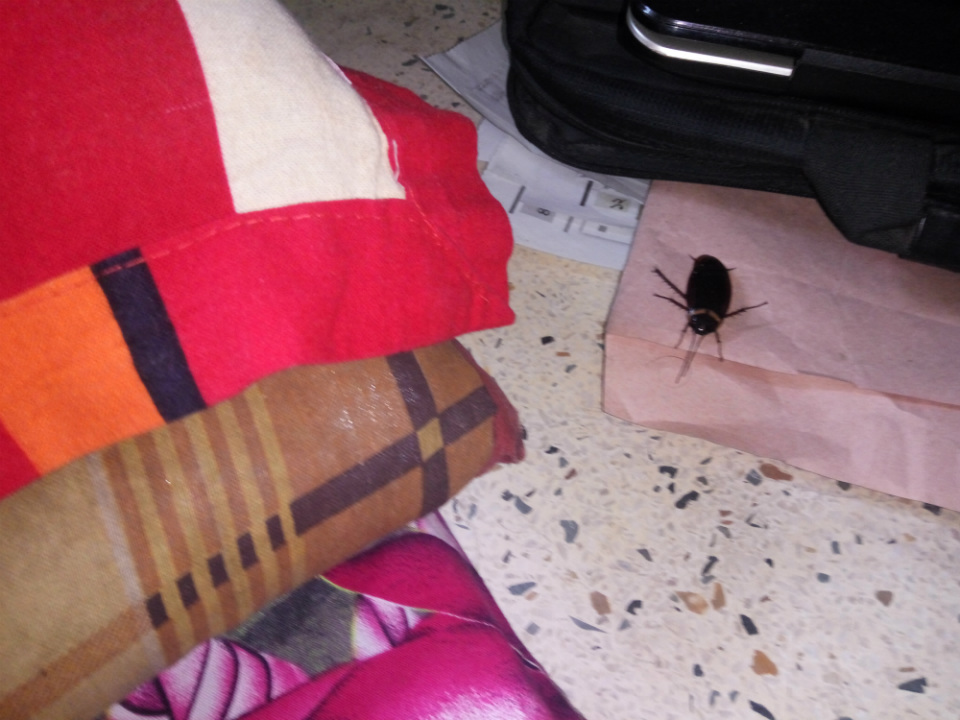cockroach: (623, 238, 801, 384)
